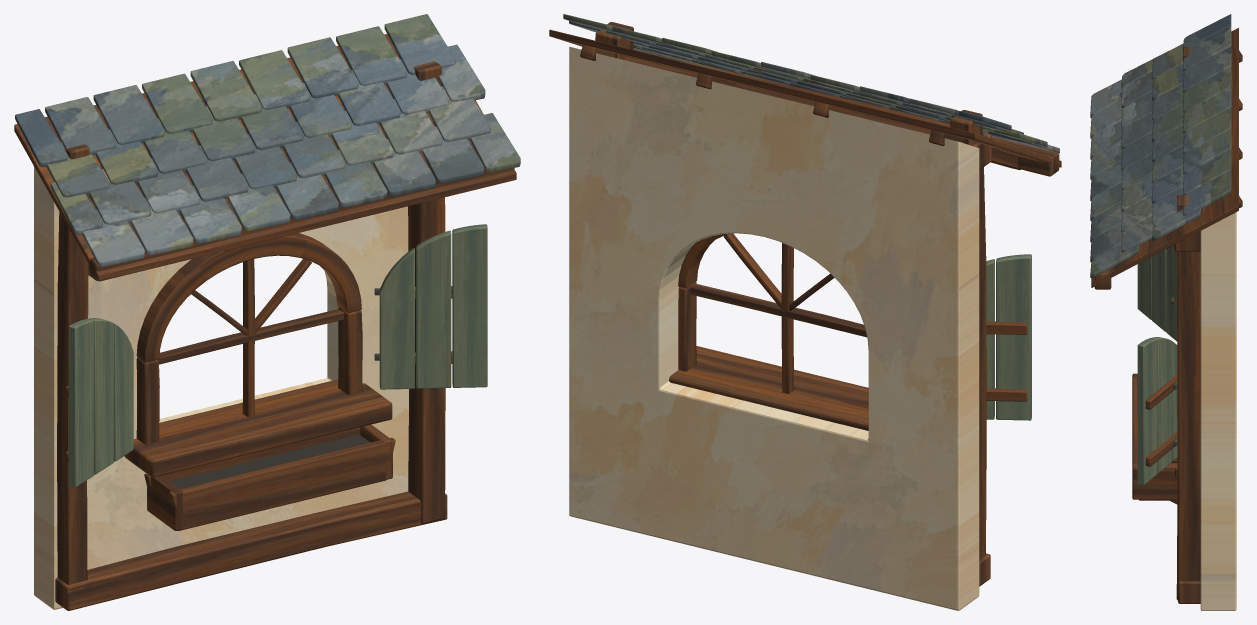
File: CM_WindowBay01_Painted_v01.fbx
3 views of the same model, side by side, from view 1: azimuth 30°, elevation 25°; view 2: azimuth 150°, elevation 25°; view 3: azimuth 270°, elevation 25° (orthographic). The views are drawn at different scales.
Visible parts, largest first — view 1: 01_Plaster_Wall_3m_ThroughOpening, 04_Lower_Storey_Rail, 02_Window_Deep_Projecting_Sill, 05_Planter_Front, 04_Right_Edge_Post, 06_Eave_Solid_Roof_Boarding, 04_Left_Structural_Post, 02_Window_CurvedArch_Frame, 03_Shutter_L_Plank_00, 03_Shutter_L_Plank_01, 03_Shutter_L_Plank_02, 03_Shutter_R_Plank_00 (+47 smaller); view 2: 01_Plaster_Wall_3m_ThroughOpening, 02_Window_Deep_Projecting_Sill, 03_Shutter_R_Plank_00, 06_Eave_Solid_Roof_Boarding, 04_Right_Edge_Post, 04_Upper_Tie_Beam, 02_Window_Spring_Transom, 02_Window_Centre_Mullion, 02_Window_Jamb_-1, 03_Shutter_R_Plank_01, 06_Eave_Fascia, 02_Window_CurvedArch_Frame (+2 smaller); view 3: 01_Plaster_Wall_3m_ThroughOpening, 04_Left_Structural_Post, 06_Eave_Solid_Roof_Boarding, 03_Shutter_L_Plank_00, 03_Shutter_L_Plank_01, 05_Planter_End_-1, 03_Shutter_R_Plank_01, 06_Slate_Course03_Tile04, 06_Slate_Course03_Tile02, 06_Slate_Course03_Tile00, 03_Shutter_R_Plank_02, 06_Slate_Course03_Tile06 (+40 smaller).
Part boxes in pixels (x1,y1,x2,y2): 01_Plaster_Wall_3m_ThroughOpening: (34, 166, 408, 609); 04_Lower_Storey_Rail: (55, 491, 447, 610); 02_Window_Deep_Projecting_Sill: (124, 379, 392, 477); 05_Planter_Front: (168, 437, 395, 530); 04_Right_Edge_Post: (57, 142, 89, 584); 06_Eave_Solid_Roof_Boarding: (14, 34, 516, 281); 04_Left_Structural_Post: (408, 61, 445, 523); 02_Window_CurvedArch_Frame: (136, 233, 361, 362); 03_Shutter_L_Plank_00: (452, 224, 487, 387); 03_Shutter_L_Plank_01: (416, 230, 451, 388); 03_Shutter_L_Plank_02: (379, 248, 414, 389); 03_Shutter_R_Plank_00: (68, 319, 93, 487); 01_Plaster_Wall_3m_ThroughOpening: (569, 46, 979, 610); 02_Window_Deep_Projecting_Sill: (669, 346, 868, 430); 03_Shutter_R_Plank_00: (996, 254, 1031, 420); 06_Eave_Solid_Roof_Boarding: (549, 29, 1061, 167); 04_Right_Edge_Post: (950, 110, 986, 559); 04_Upper_Tie_Beam: (623, 52, 991, 169); 02_Window_Spring_Transom: (690, 284, 866, 337); 02_Window_Centre_Mullion: (781, 243, 794, 393); 02_Window_Jamb_-1: (678, 282, 696, 371); 03_Shutter_R_Plank_01: (986, 259, 994, 419); 06_Eave_Fascia: (634, 49, 1059, 176); 02_Window_CurvedArch_Frame: (678, 233, 729, 288); 01_Plaster_Wall_3m_ThroughOpening: (1200, 212, 1236, 610); 04_Left_Structural_Post: (1176, 195, 1204, 600); 06_Eave_Solid_Roof_Boarding: (1091, 27, 1238, 287); 03_Shutter_L_Plank_00: (1137, 338, 1157, 485); 03_Shutter_L_Plank_01: (1152, 337, 1171, 473); 05_Planter_End_-1: (1132, 463, 1177, 499); 03_Shutter_R_Plank_01: (1152, 249, 1166, 331); 06_Slate_Course03_Tile04: (1183, 88, 1231, 133); 06_Slate_Course03_Tile02: (1183, 129, 1231, 174); 06_Slate_Course03_Tile00: (1183, 171, 1231, 215); 03_Shutter_R_Plank_02: (1166, 245, 1177, 341); 06_Slate_Course03_Tile06: (1183, 47, 1231, 92).
Bounding box in the file's own units: 3.36 × 3.66 × 1.19.
